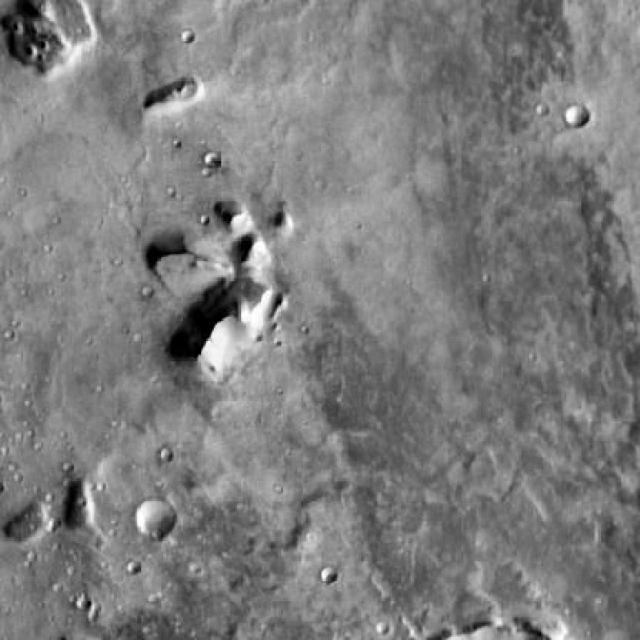crater: (130, 498, 176, 542), (568, 106, 590, 129), (201, 153, 219, 170), (321, 567, 336, 582), (157, 447, 172, 462)
